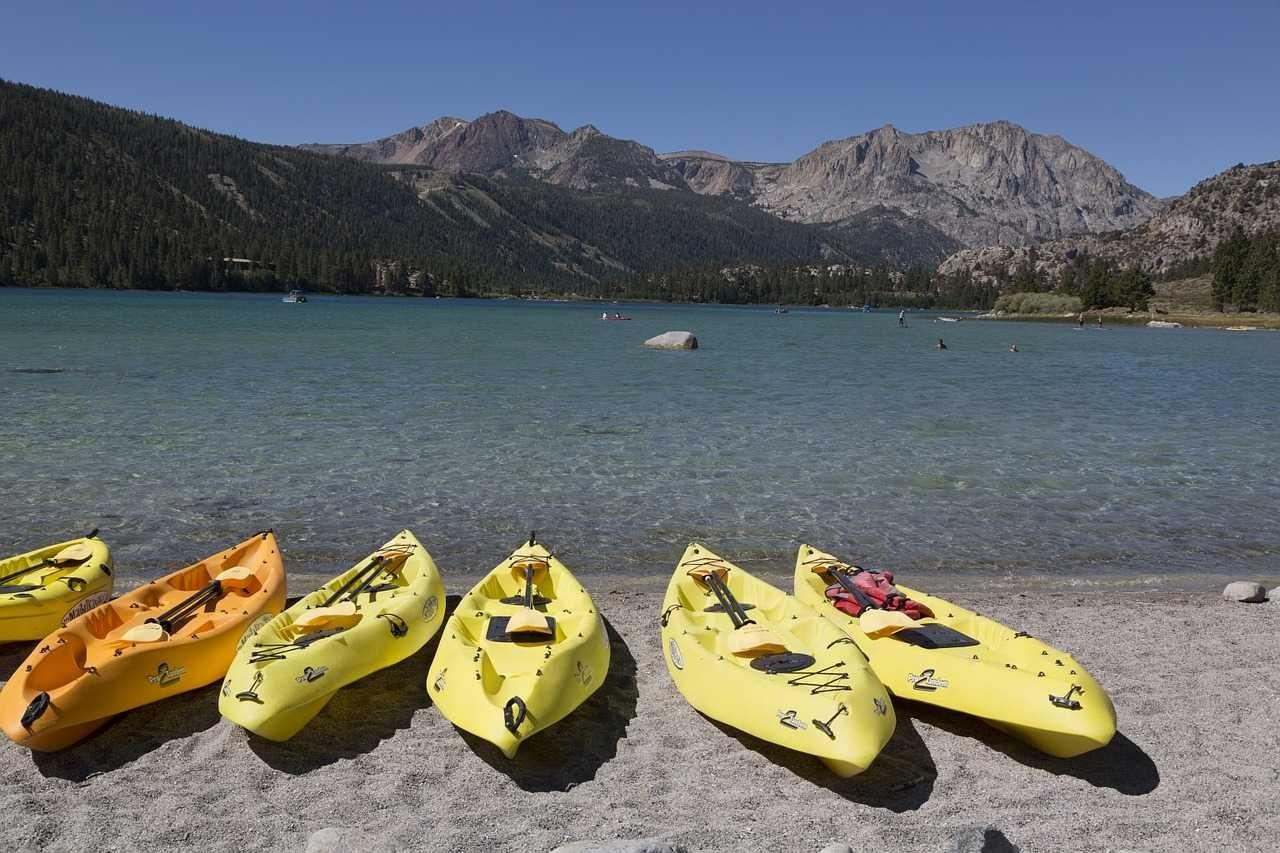kayak: (0, 529, 287, 754), (659, 541, 896, 779), (217, 528, 447, 744), (425, 531, 612, 761), (1, 528, 113, 646), (641, 329, 700, 351), (280, 287, 308, 304), (1146, 316, 1181, 329), (598, 312, 633, 321), (897, 308, 910, 327)
